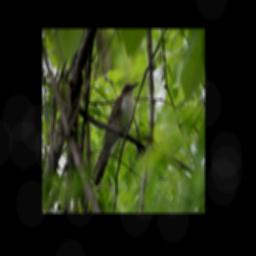Cuckoo: (90, 80, 139, 189)
